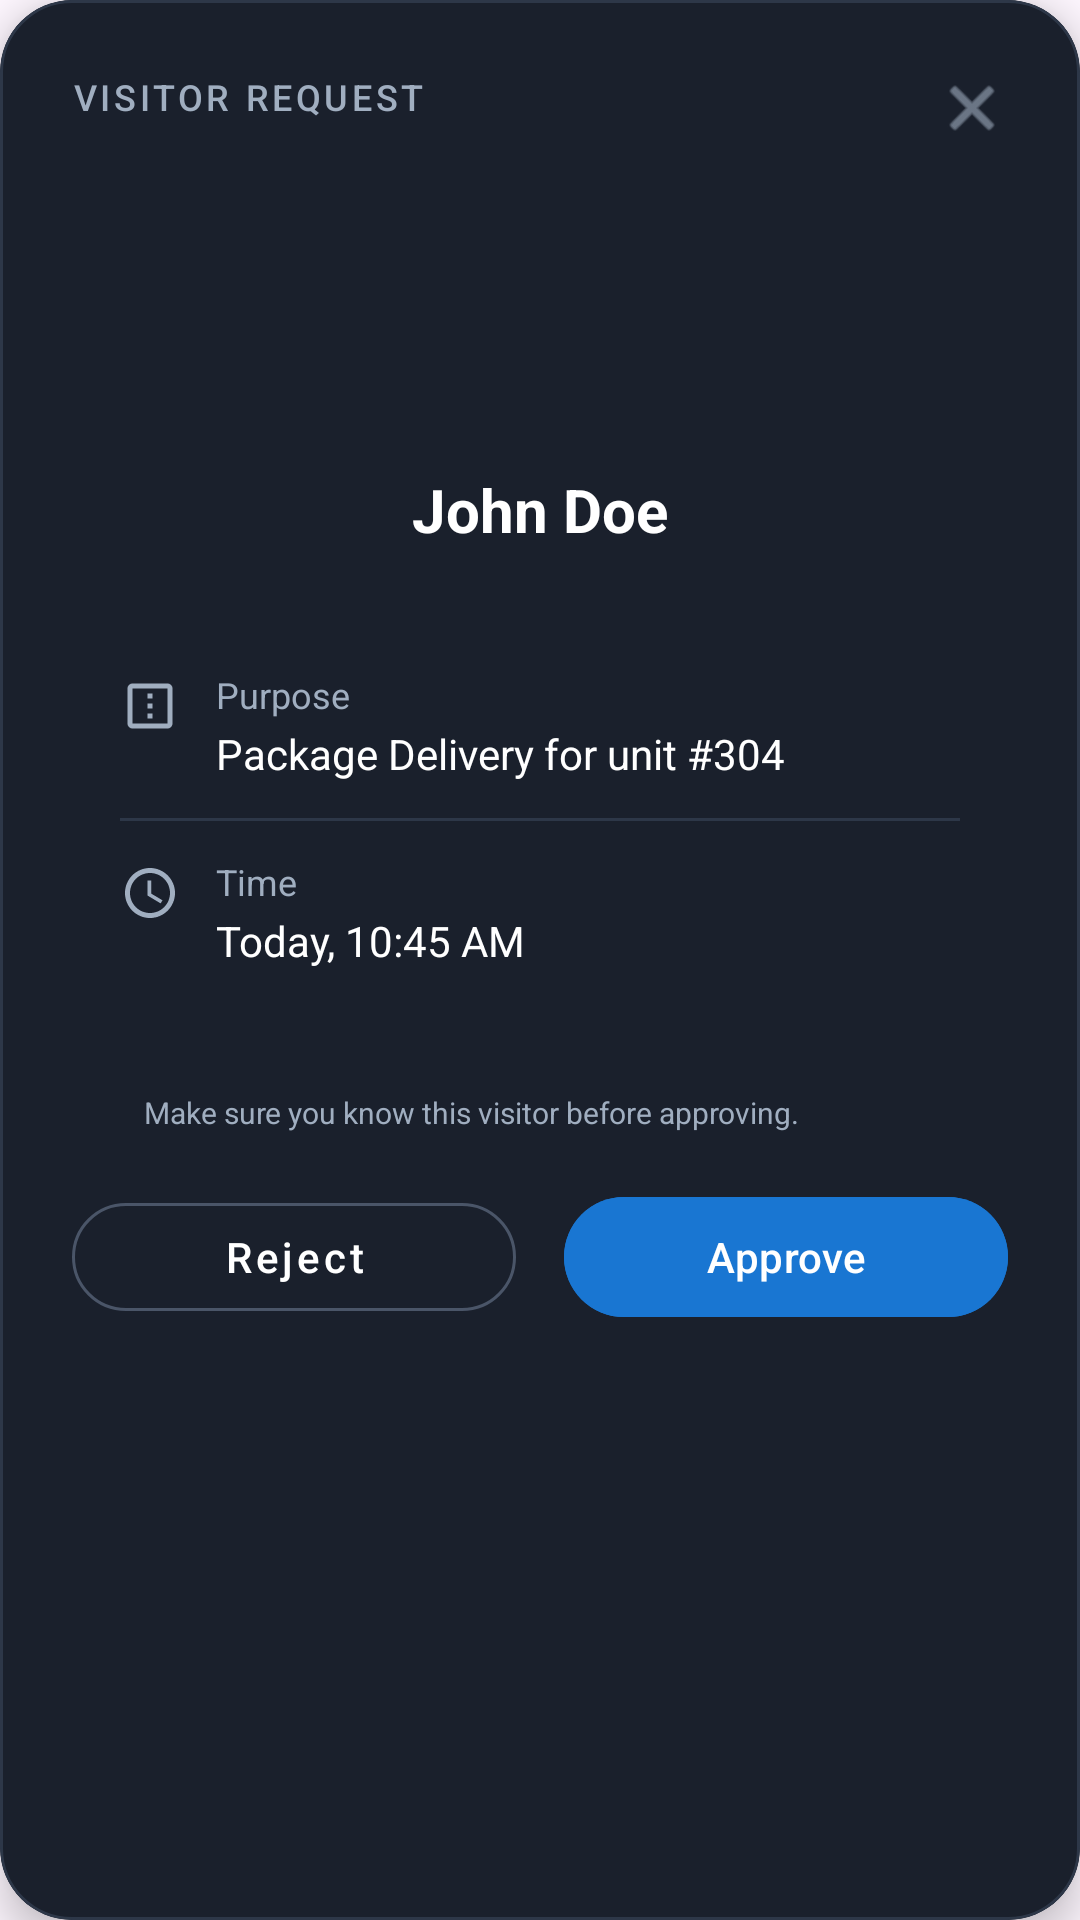

Icon bounding boxes for this 1080px x 1920px phone screenshot, format box=[x1, y1, x2, y2]:
clock: box=[125, 868, 175, 918]
close clear cancel: box=[950, 86, 994, 130]
